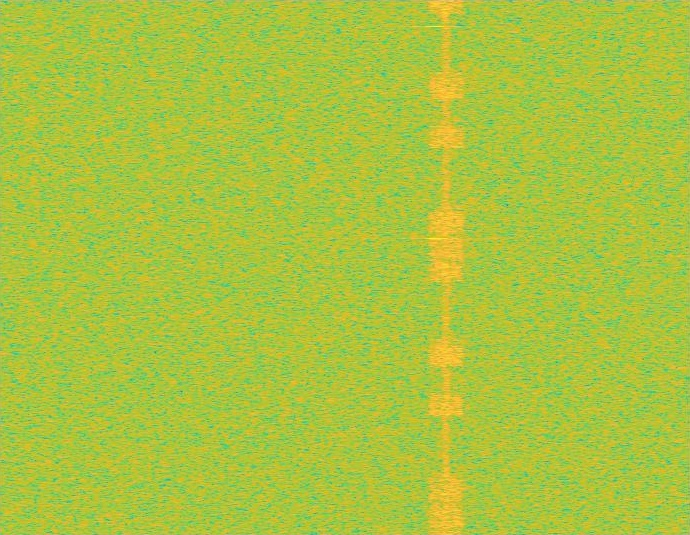DSSS: (443, 0, 450, 534)
LTE: (429, 0, 464, 534)
Radar: (429, 0, 443, 534)
